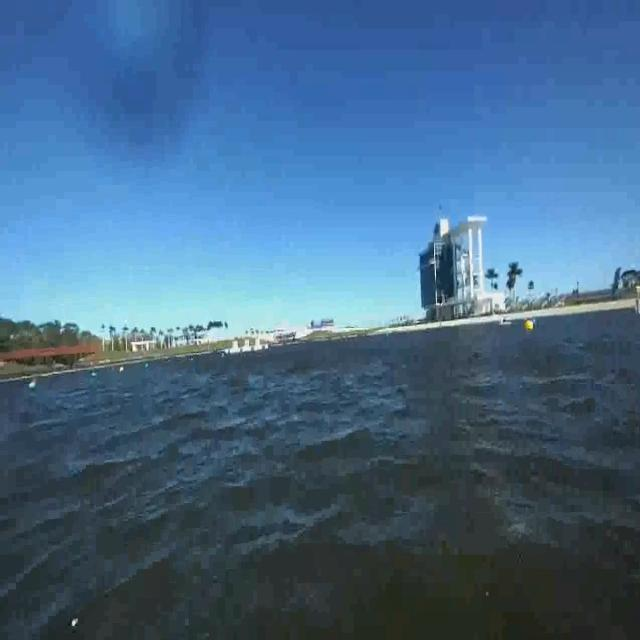yellow-buoy: (523, 317, 536, 333)
